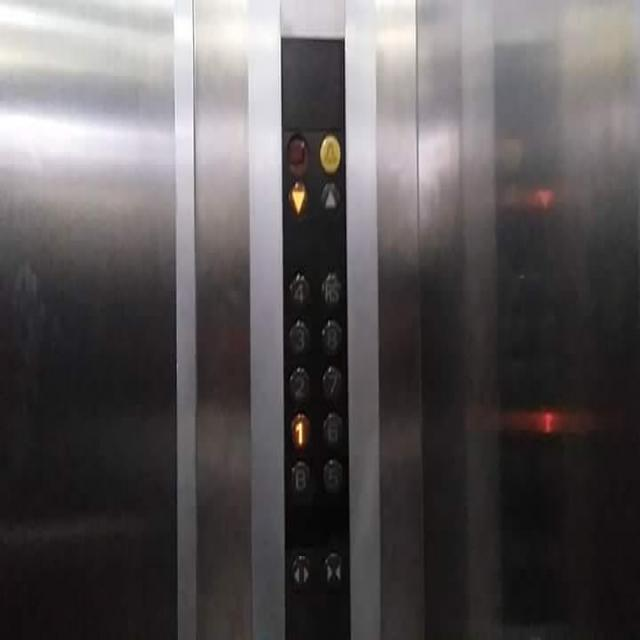1: (288, 410, 312, 454)
2: (286, 367, 312, 409)
3: (286, 314, 310, 358)
4: (287, 268, 310, 312)
5: (320, 456, 344, 497)
6: (320, 408, 344, 453)
8: (319, 361, 344, 407), (318, 322, 341, 358)
B: (288, 458, 312, 498)
RS: (316, 267, 344, 316)
alarm: (317, 128, 343, 176)
blur: (286, 130, 308, 178)
close: (320, 546, 345, 594)
down: (288, 180, 308, 223)
open: (286, 550, 314, 598)
up: (319, 180, 340, 221)
